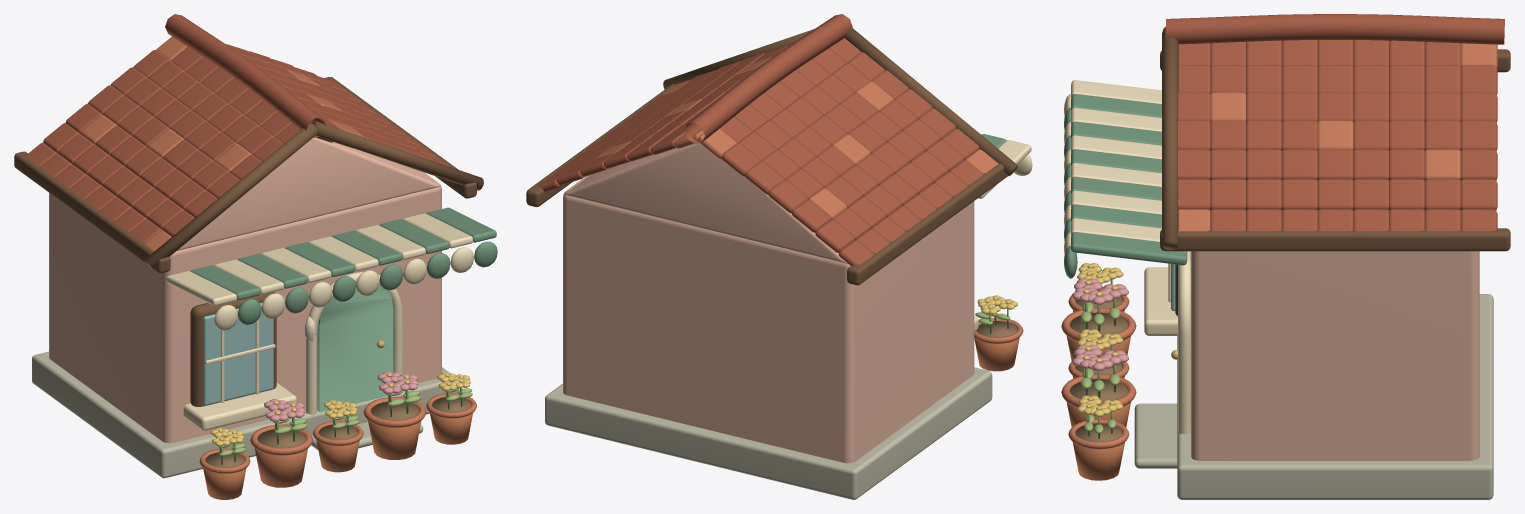
The model's file is florist.glb.
3 renders of one model, left to right at view 1: azimuth 30°, elevation 25°; view 2: azimuth 150°, elevation 25°; view 3: azimuth 270°, elevation 25°, orthographic. The views are drawn at different scales.
Visible parts, largest first — view 1: florist_World_Mesh, Planter.009_Mesh, Planter.011_Mesh, Planter.012_Mesh, Planter.008_Mesh, Planter.010_Mesh; view 2: florist_World_Mesh, Planter.008_Mesh; view 3: florist_World_Mesh, Planter.012_Mesh, Planter.011_Mesh, Planter.009_Mesh, Planter.008_Mesh, Planter.010_Mesh.
Part boxes in pixels (x1=…): florist_World_Mesh: x1=14, y1=14, x2=497, y2=478; Planter.009_Mesh: x1=250, y1=399, x2=312, y2=487; Planter.011_Mesh: x1=363, y1=371, x2=426, y2=459; Planter.012_Mesh: x1=426, y1=372, x2=476, y2=444; Planter.008_Mesh: x1=199, y1=427, x2=250, y2=499; Planter.010_Mesh: x1=313, y1=400, x2=363, y2=472; florist_World_Mesh: x1=526, y1=14, x2=1032, y2=499; Planter.008_Mesh: x1=974, y1=295, x2=1023, y2=371; florist_World_Mesh: x1=1064, y1=14, x2=1510, y2=499; Planter.012_Mesh: x1=1068, y1=395, x2=1129, y2=480; Planter.011_Mesh: x1=1061, y1=344, x2=1136, y2=427; Planter.009_Mesh: x1=1061, y1=278, x2=1136, y2=360; Planter.008_Mesh: x1=1068, y1=263, x2=1129, y2=312; Planter.010_Mesh: x1=1068, y1=329, x2=1129, y2=378.
Size of the model in its own units: 3.38 by 3.21 by 3.27.
